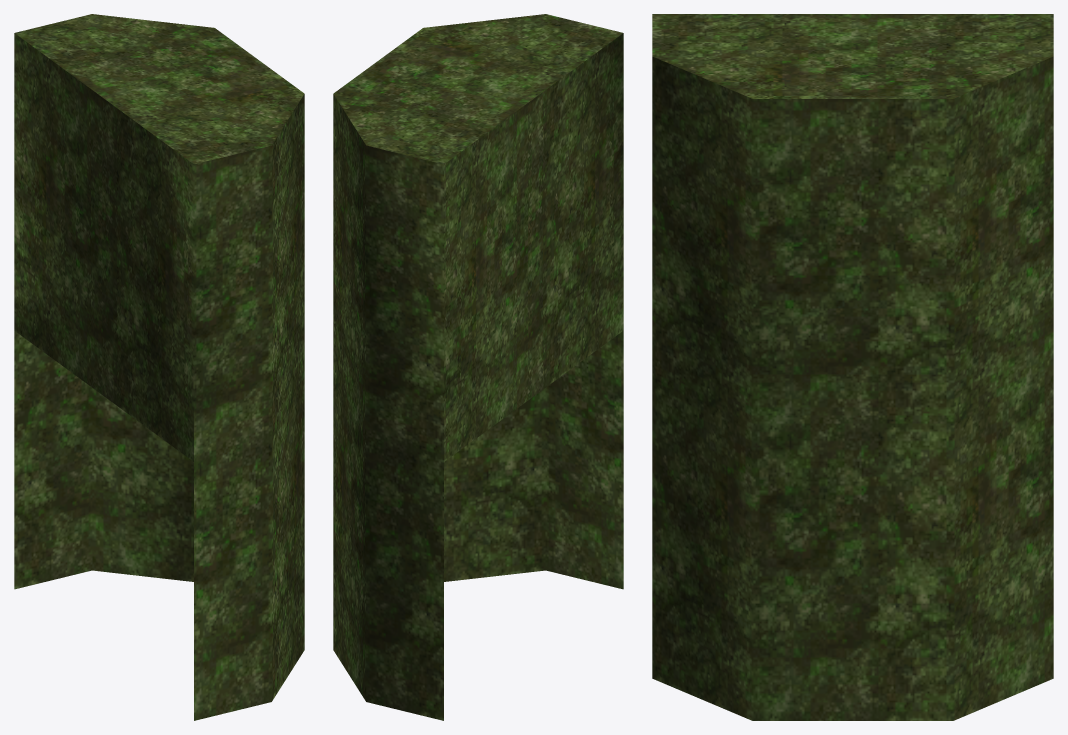
File: OVERHILL_A_01_LINE147.fbx
3 views of the same model, side by side, from view 1: azimuth 30°, elevation 25°; view 2: azimuth 150°, elevation 25°; view 3: azimuth 270°, elevation 25° (orthographic). The views are drawn at different scales.
Parts seen in each view (by area): view 1: OVERHILL_A_01_LINE147; view 2: OVERHILL_A_01_LINE147; view 3: OVERHILL_A_01_LINE147.
Part boxes in pixels (bbox=[...]): OVERHILL_A_01_LINE147: bbox=[14, 14, 304, 720]; OVERHILL_A_01_LINE147: bbox=[333, 14, 623, 720]; OVERHILL_A_01_LINE147: bbox=[652, 14, 1053, 720].
Size of the model in its own units: 20000 by 68372 by 40000.
1 material, 1 textured.
